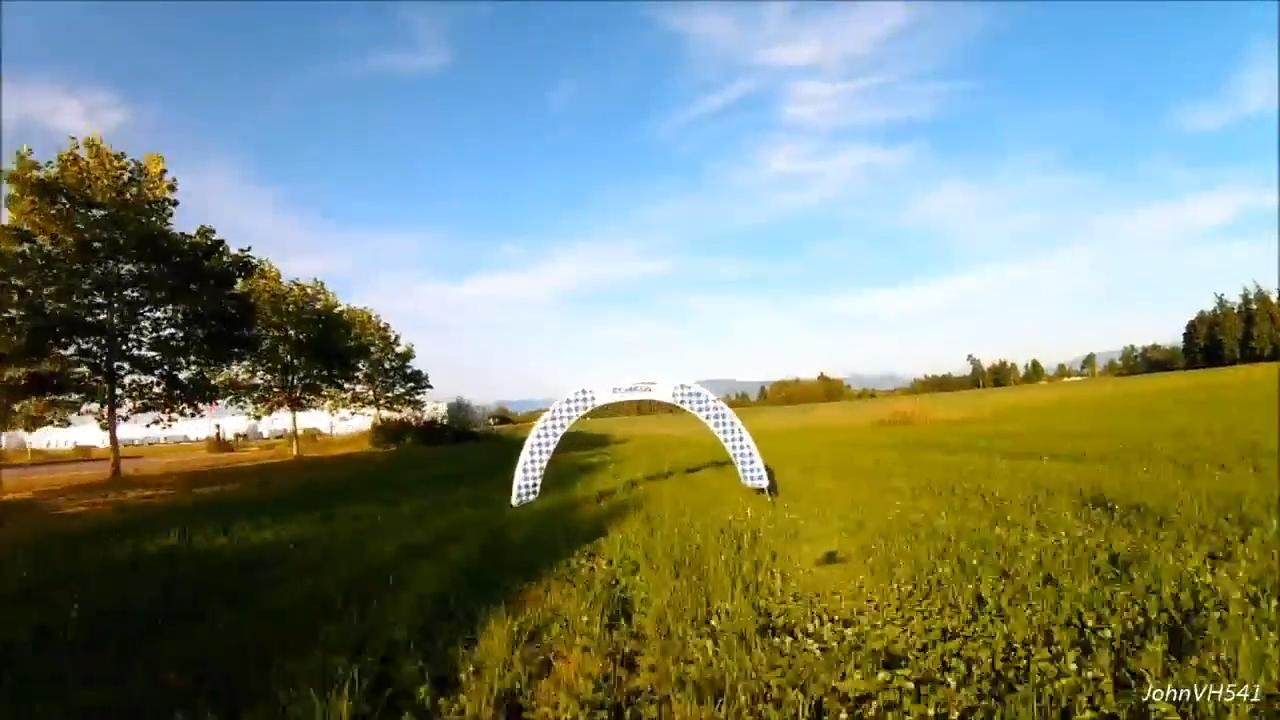gate: (506, 375, 771, 510)
